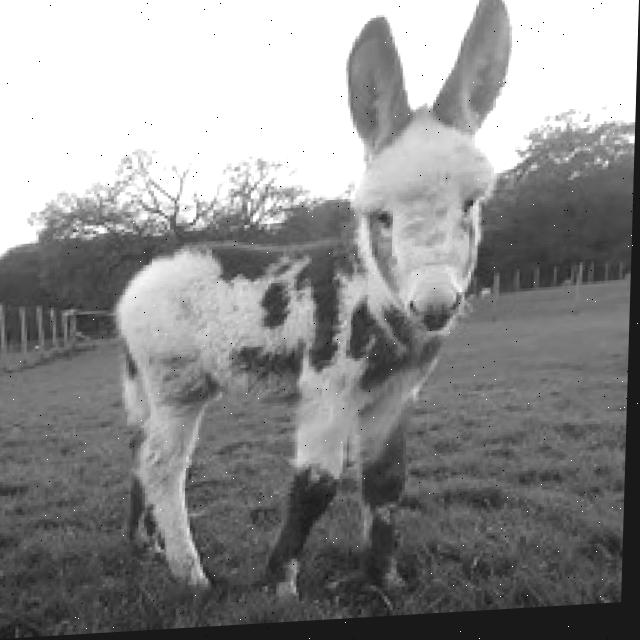Donkey: (101, 0, 514, 630)
